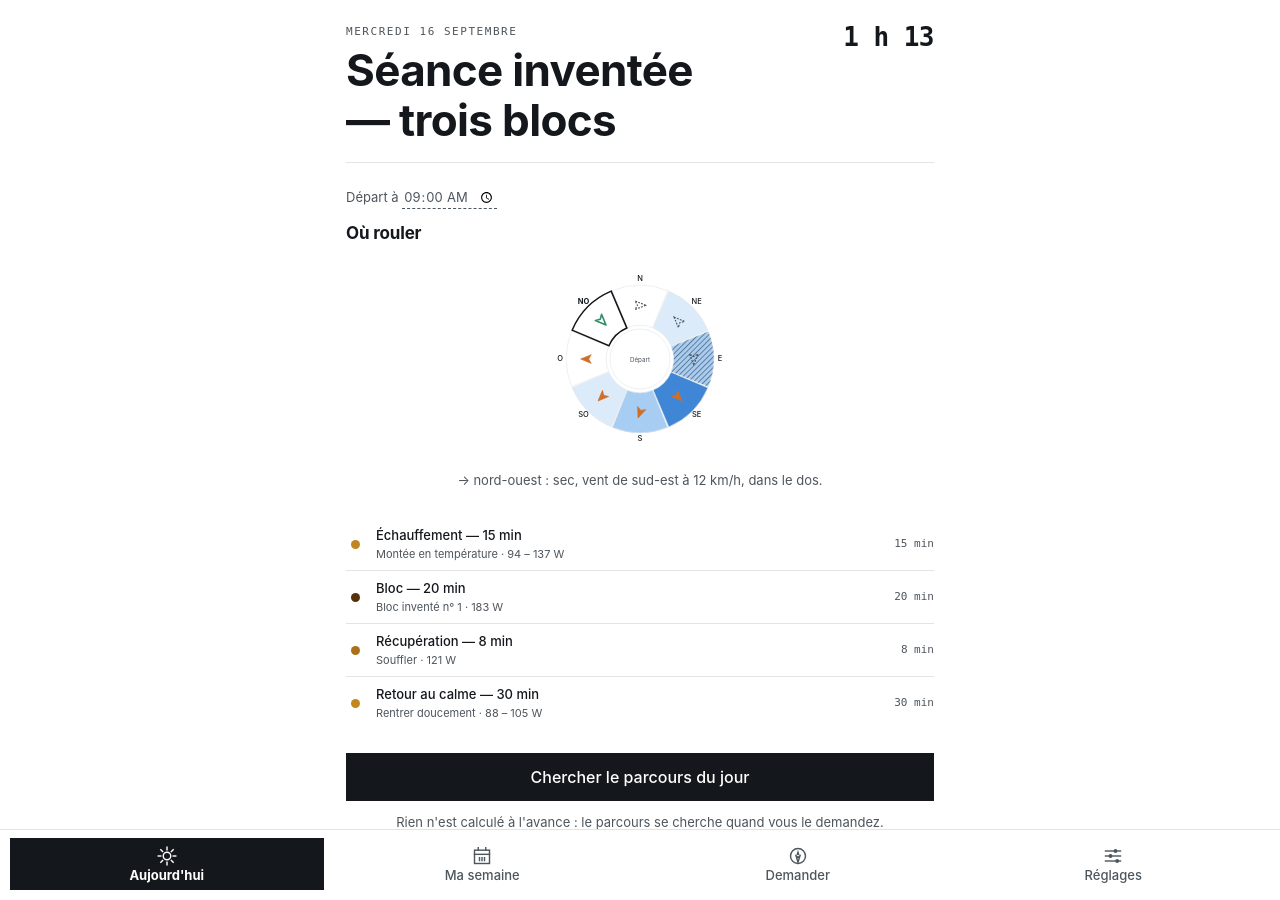
Test: Q47 — Endurance Z2 balaie l'horizon sans direction, comme « Ma séance » › « Selon le vent » reste grisé et indisponible en Z2 — /boucles n'a pas de champ vent
Click the button "Demander": {"x": 798, "y": 864} [641,838,954,890]
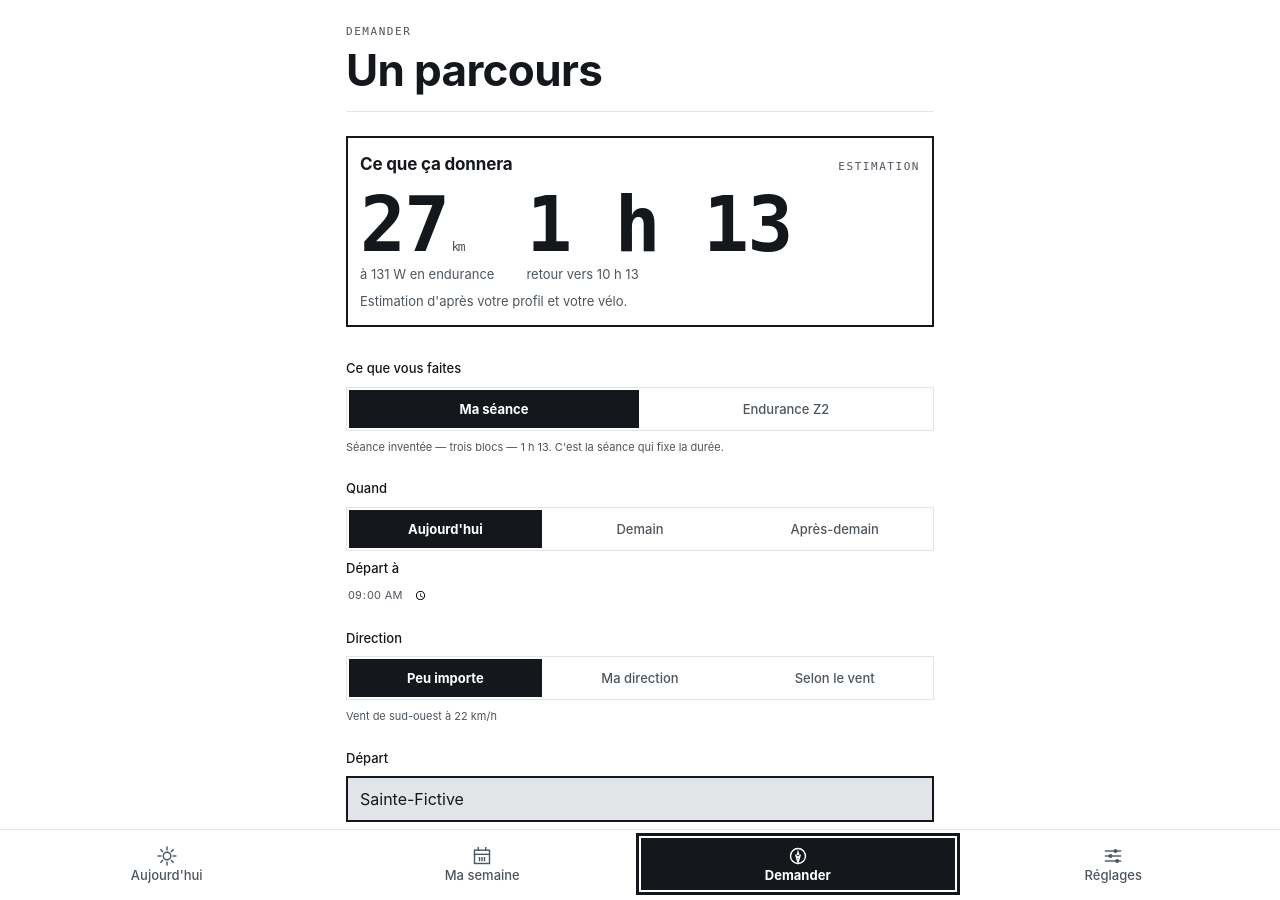
Click the button "Endurance Z2": {"x": 786, "y": 409} [641,390,931,428]
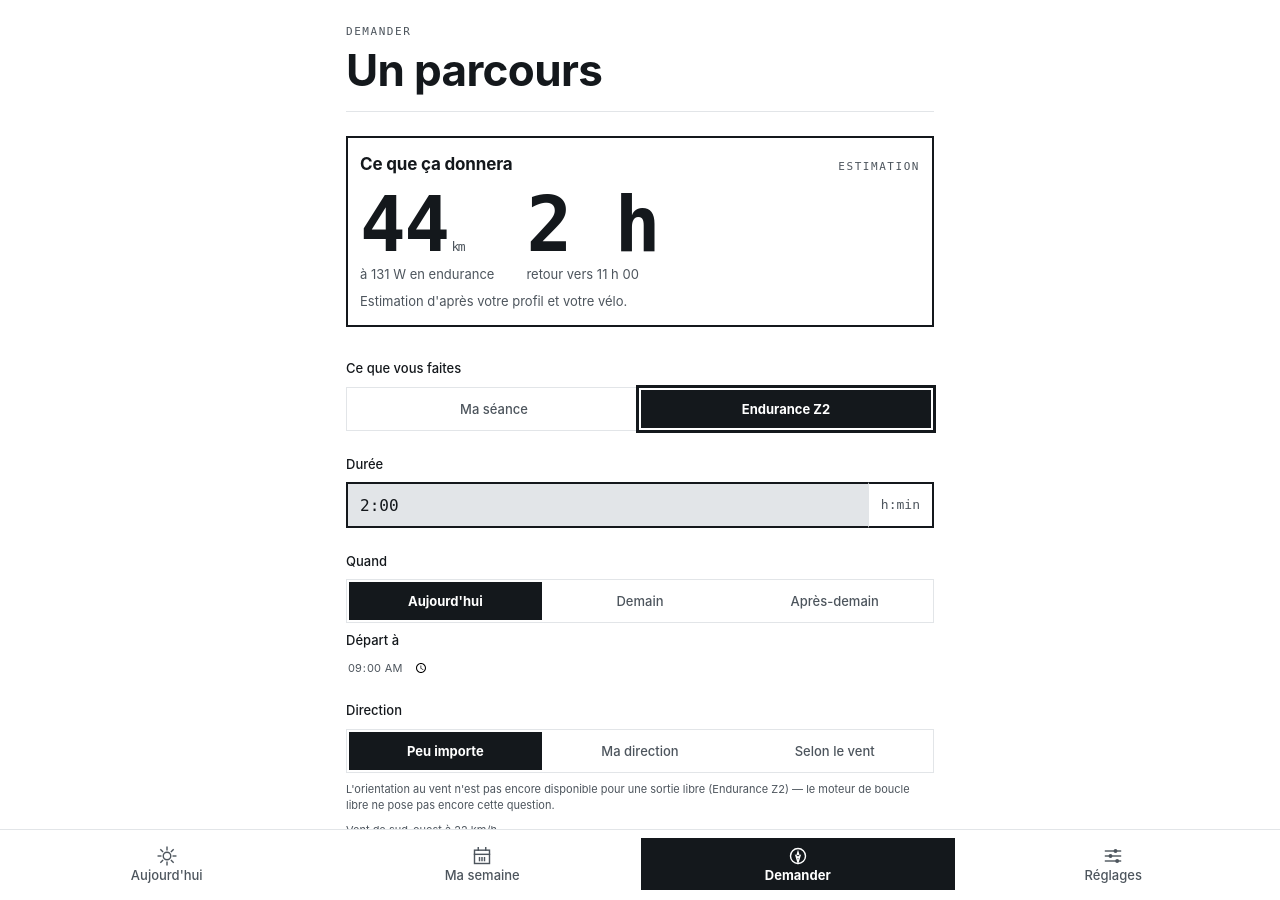
Result: the button "Selon le vent" is disabled at [738,732,931,770]
Result: the text "pas encore disponible pour une sortie libre" is shown at [346,782,910,812]
